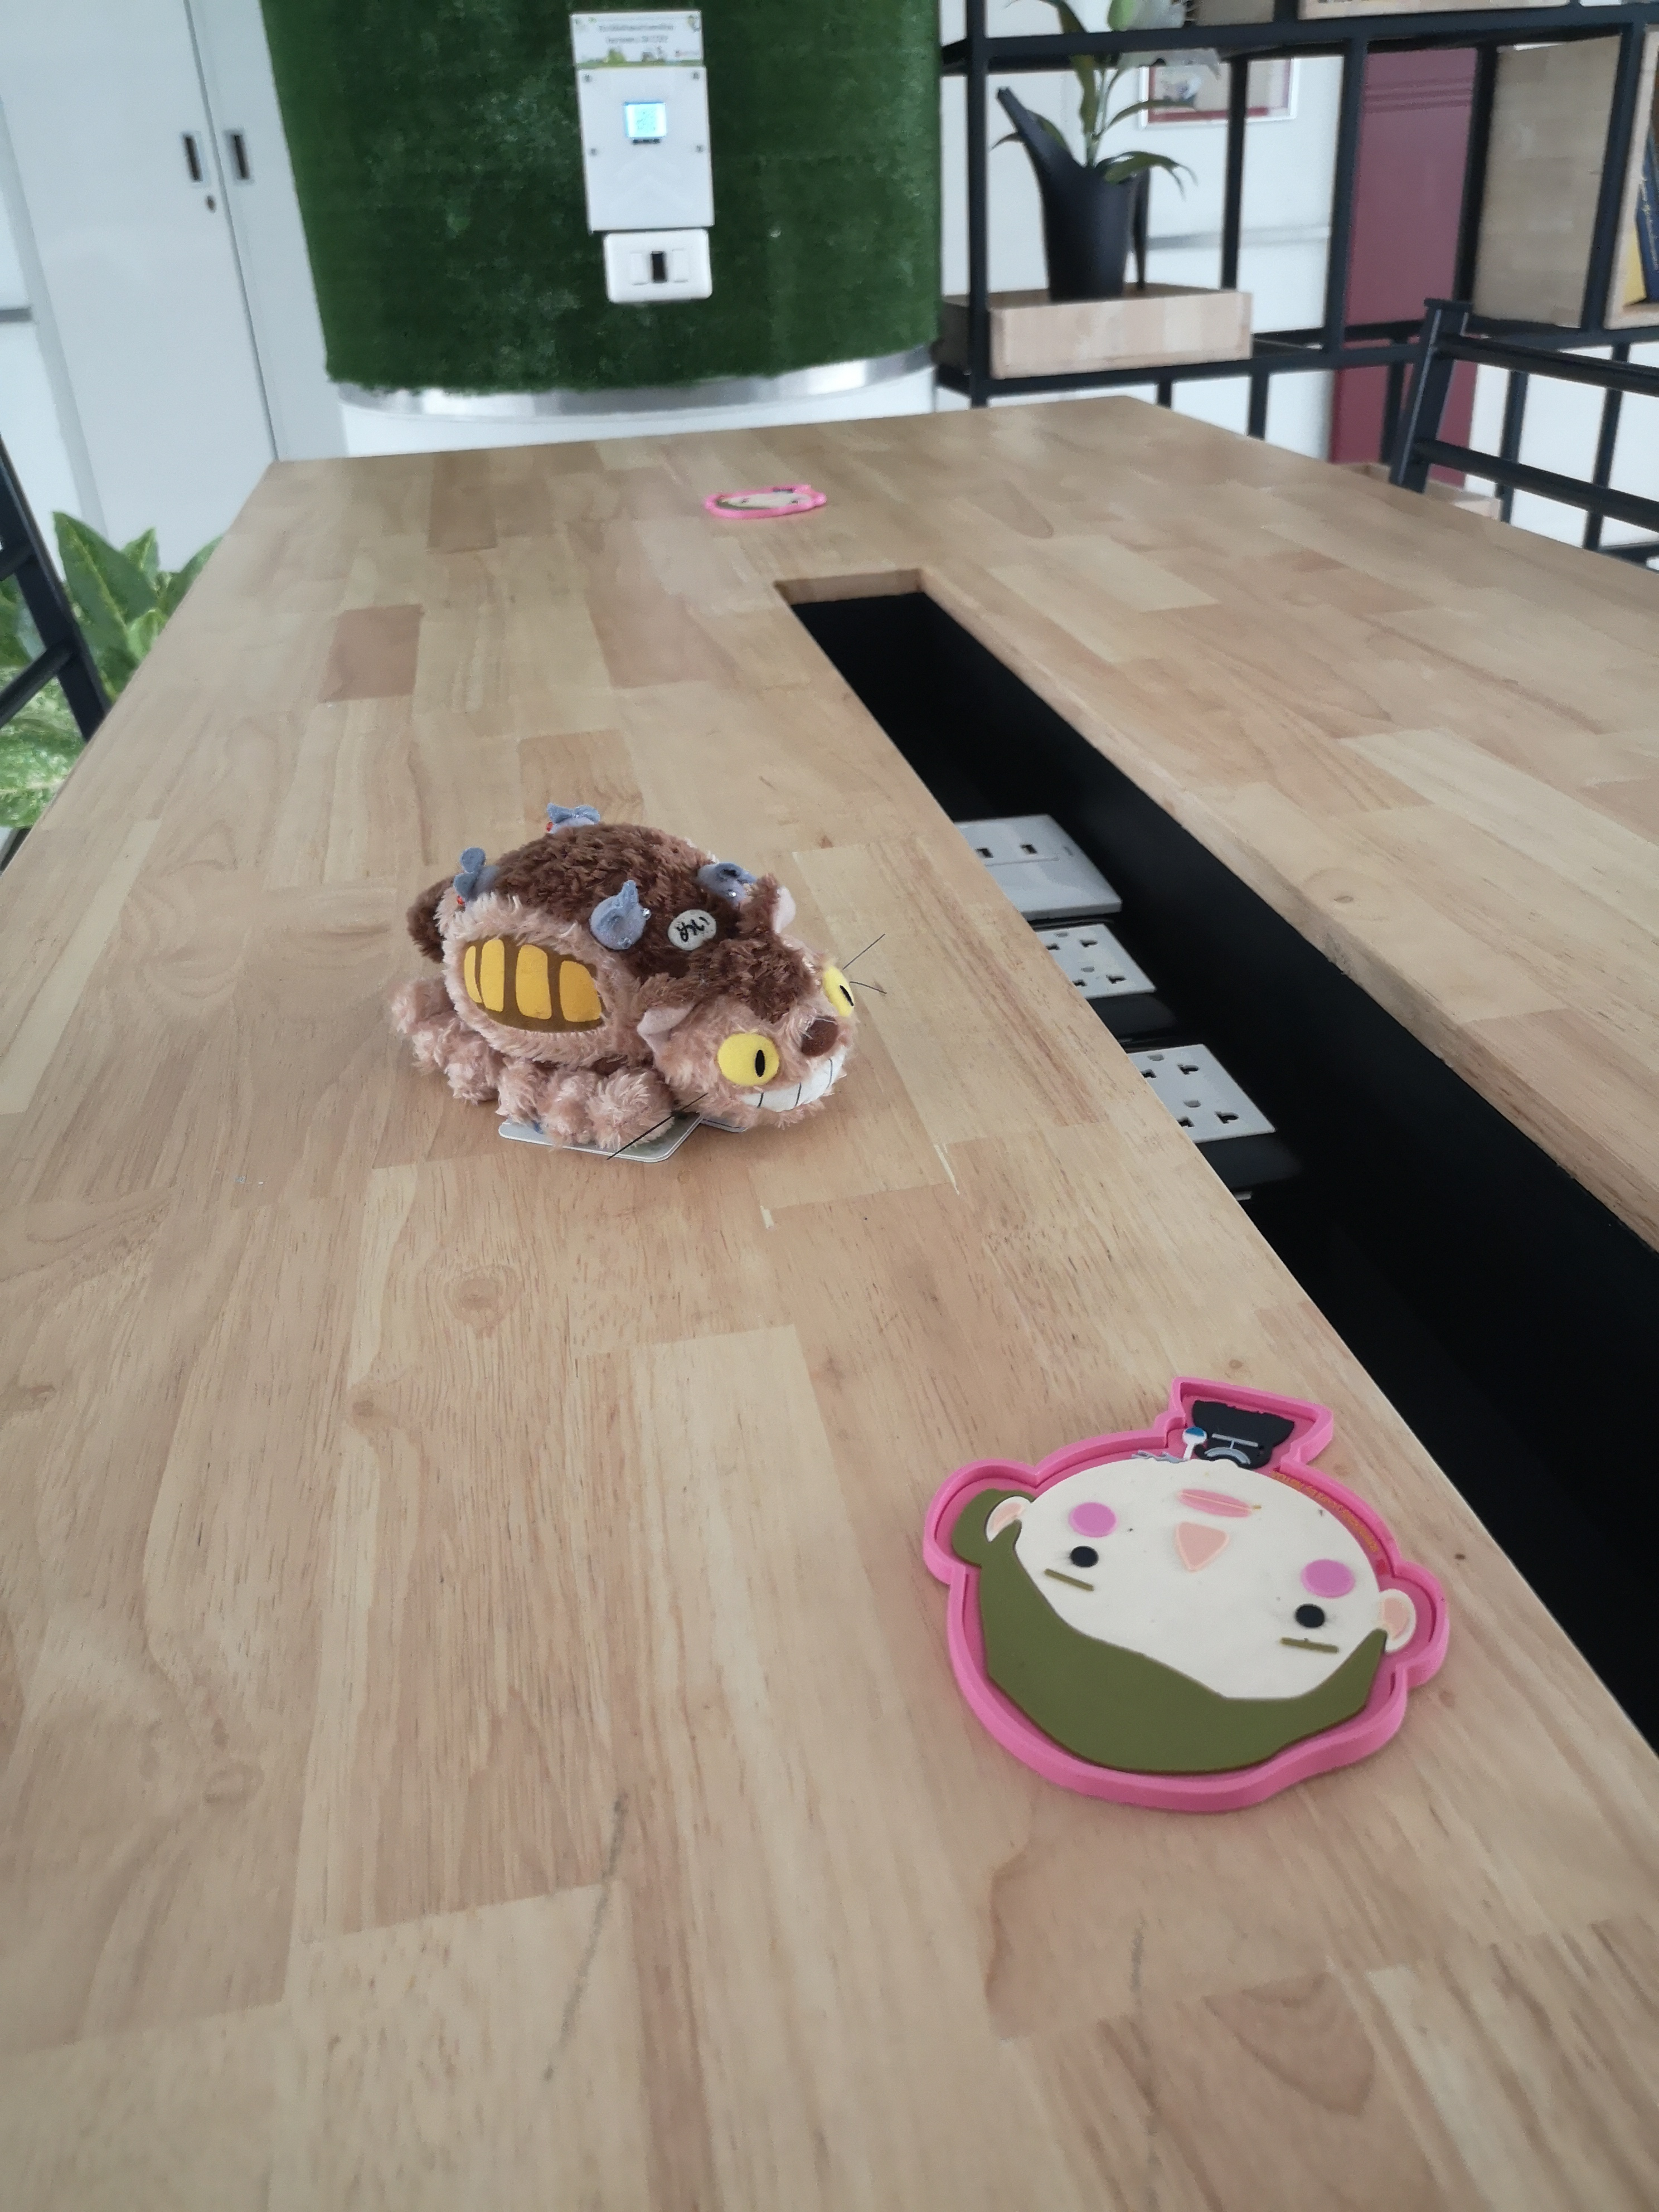nekobus: (378, 799, 899, 1167)
